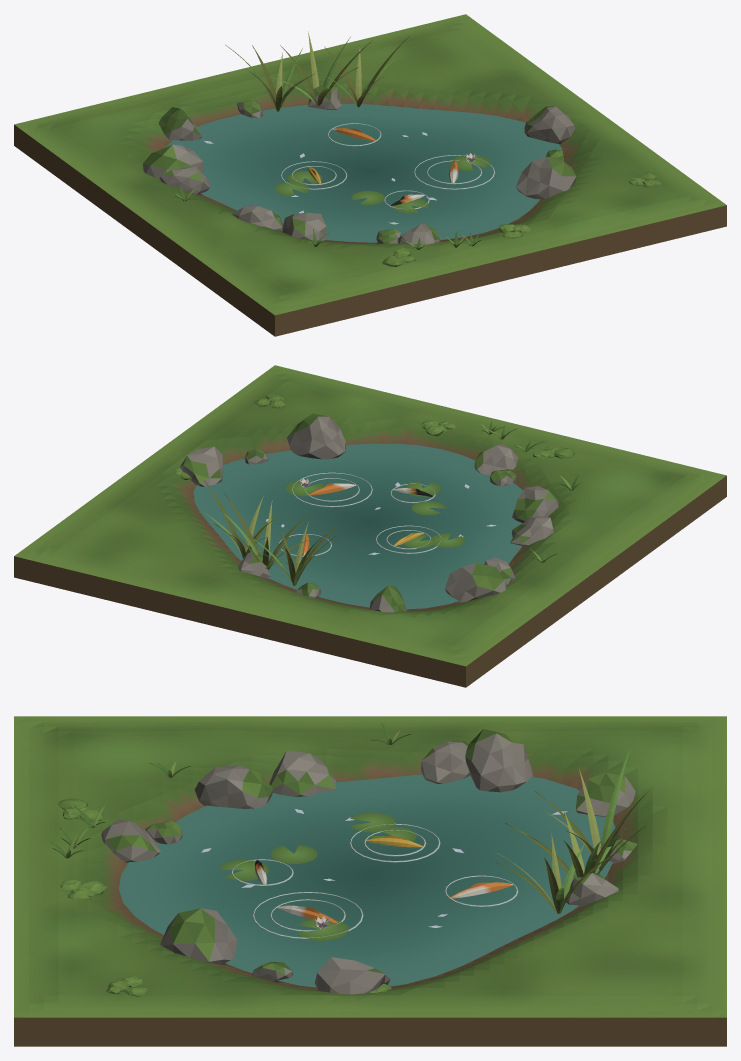
File: koi-pond-tile.glb
3 renders of one model, top to bottom at view 1: azimuth 30°, elevation 25°; view 2: azimuth 150°, elevation 25°; view 3: azimuth 270°, elevation 25°, orthographic. The views are drawn at different scales.
Visible parts, largest first — view 1: koi_pond_tile; view 2: koi_pond_tile; view 3: koi_pond_tile.
Part boxes in pixels (box(x1,y1,x2,y2)): koi_pond_tile: box(14, 14, 726, 336); koi_pond_tile: box(14, 365, 726, 687); koi_pond_tile: box(14, 716, 726, 1046).
Size of the model in its own units: 4 by 0.7115 by 4.
